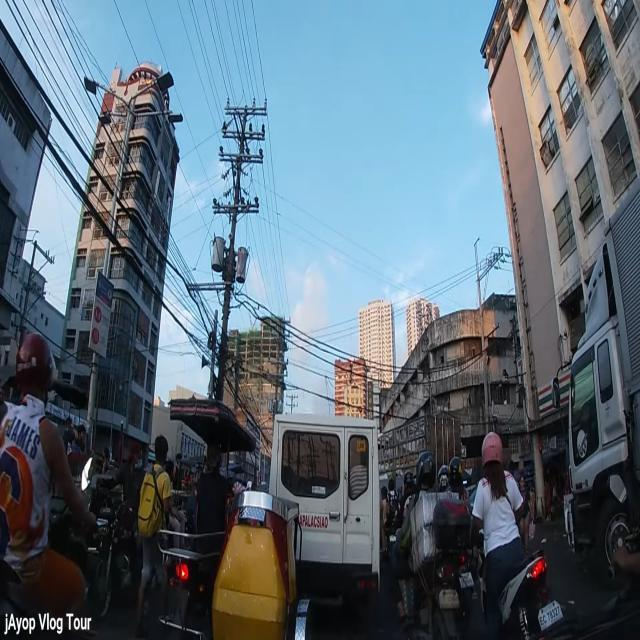motorcycle: (474, 428, 566, 640), (395, 451, 470, 640)
tricycle: (158, 397, 312, 640)
truck: (551, 171, 640, 581), (268, 413, 381, 614)
